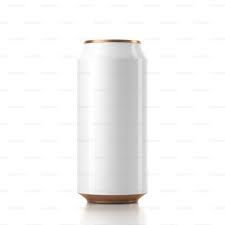can: (79, 37, 148, 205)
